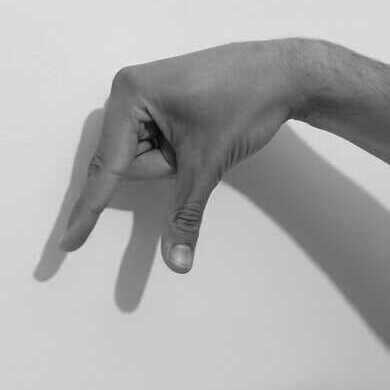Q: (58, 37, 291, 275)
